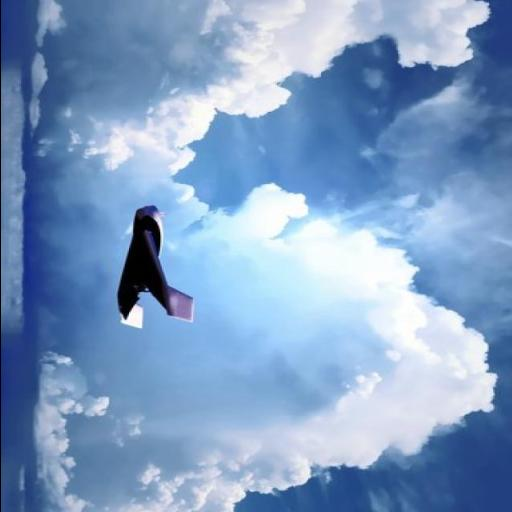uav: (111, 198, 195, 332)
